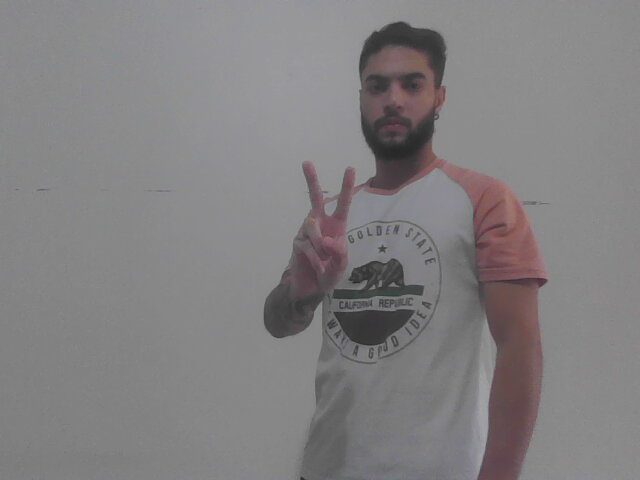v: (291, 159, 361, 297)
